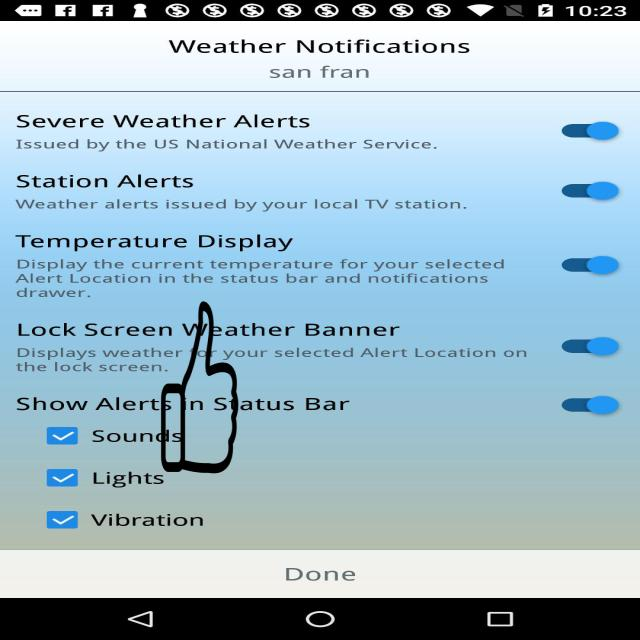privacy zuckering: (160, 302, 239, 474)
